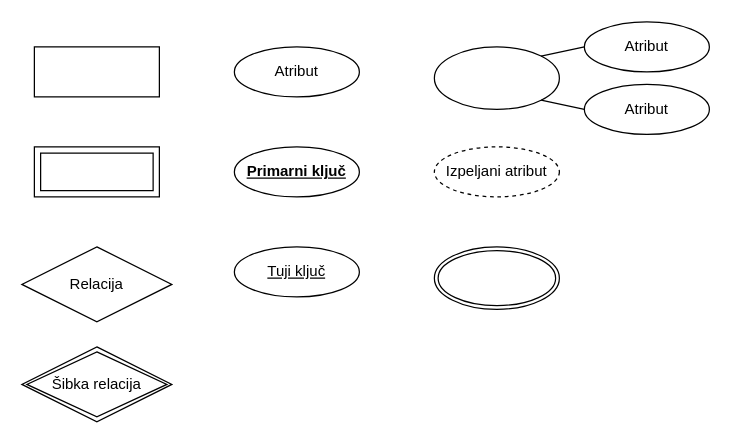
The diagram is 731 pixels wide and 444 high, and some of its shapes have lost their labels. Here are the shapes that lost their labels. From the top down, the centre of each, then its label:
At point 96,71: "Entiteta".
At point 496,77: "Sestavljeni atribut".
At point 96,171: "Šibka entiteta".
At point 496,277: "Atribut z več vrednostmi".
